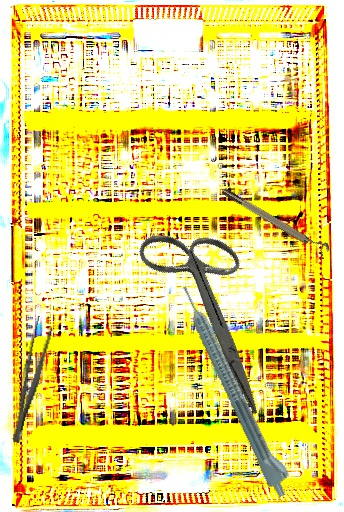Dressing Forceps: (5, 315, 57, 445)
Fixation Ring: (220, 181, 332, 260)
Handpiece: (176, 279, 299, 500)
Iris Scissors: (96, 204, 326, 416)
